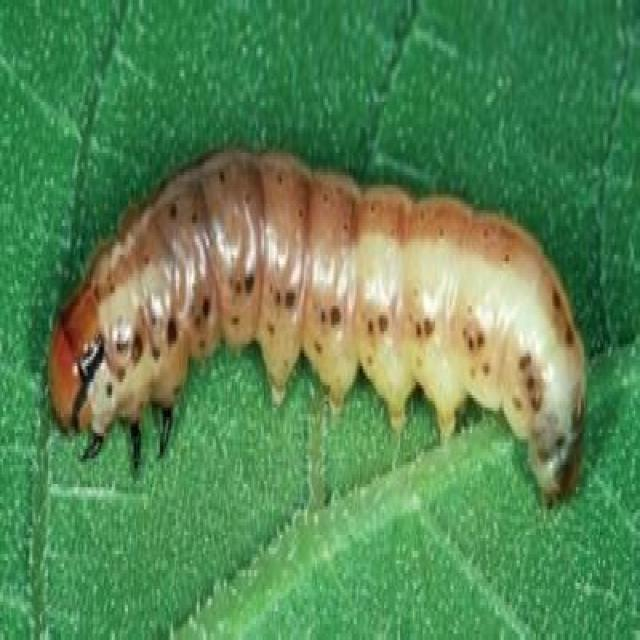cornborer-Larva-: (42, 136, 603, 524)
